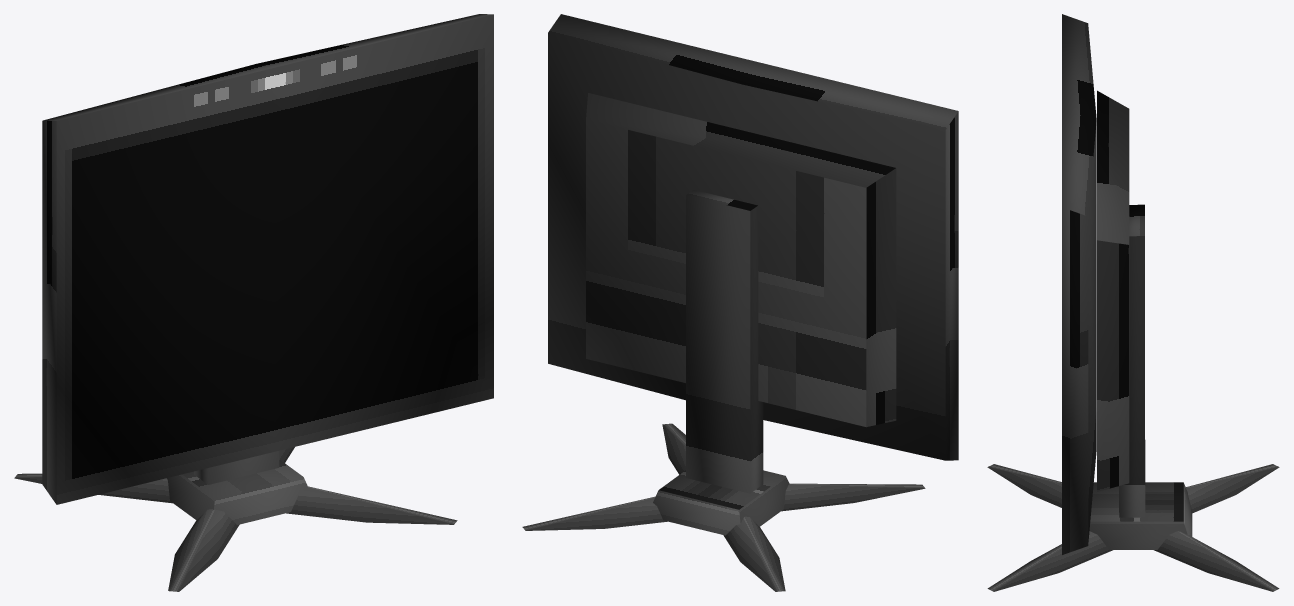
3 views of the same model, side by side, from view 1: azimuth 30°, elevation 25°; view 2: azimuth 150°, elevation 25°; view 3: azimuth 270°, elevation 25° (orthographic). The views are drawn at different scales.
Visible parts, largest first — view 1: 3499IMEL01_16; view 2: 3499IMEL01_16; view 3: 3499IMEL01_16.
Part boxes in pixels (x1,y1,x2,y2): 3499IMEL01_16: (14,14,493,591); 3499IMEL01_16: (522,14,958,591); 3499IMEL01_16: (987,14,1279,591).
Size of the model in its own units: 0.8501 by 0.8557 by 0.5435.
4 materials, 4 textured.
